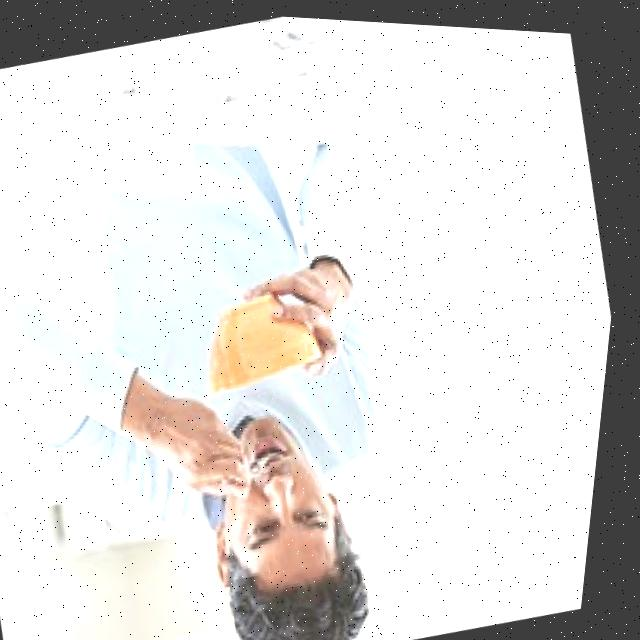eating-person: (0, 48, 513, 640)
